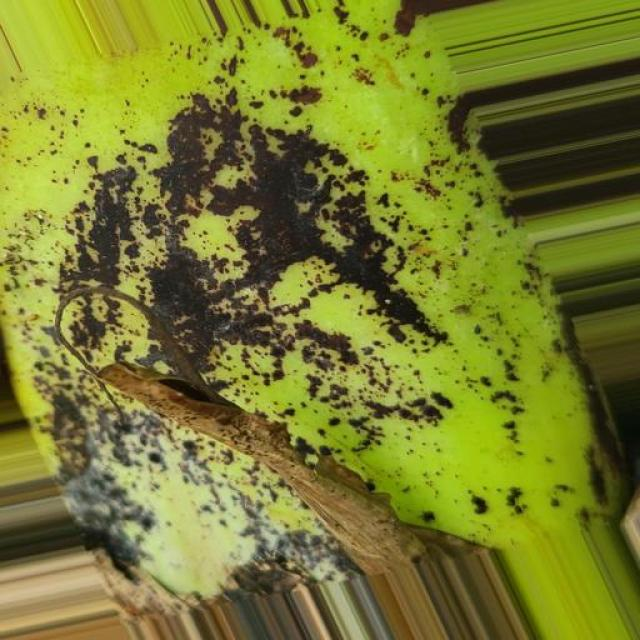Anthracnose: (5, 38, 640, 560)
